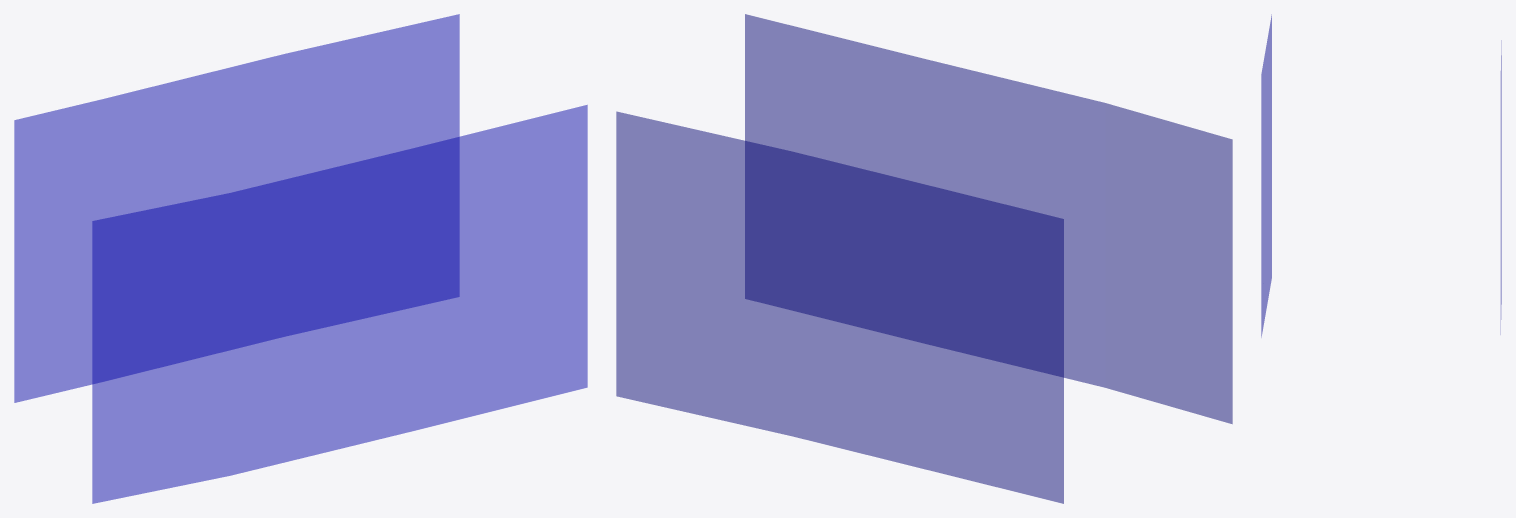
Rendered from track_military_coll_wall_11.fbx.
3 renders of one model, left to right at view 1: azimuth 30°, elevation 25°; view 2: azimuth 150°, elevation 25°; view 3: azimuth 270°, elevation 25°, orthographic. The views are drawn at different scales.
Parts seen in each view (by area): view 1: track_military_coll_wall_11; view 2: track_military_coll_wall_11; view 3: track_military_coll_wall_11.
Boxes of the visible parts, box(x1,y1,x2,y2) form: track_military_coll_wall_11: box(14, 14, 587, 503); track_military_coll_wall_11: box(616, 14, 1232, 503); track_military_coll_wall_11: box(1261, 14, 1501, 337).
Bounding box in the file's own units: 57.45 × 32.05 × 26.09.
